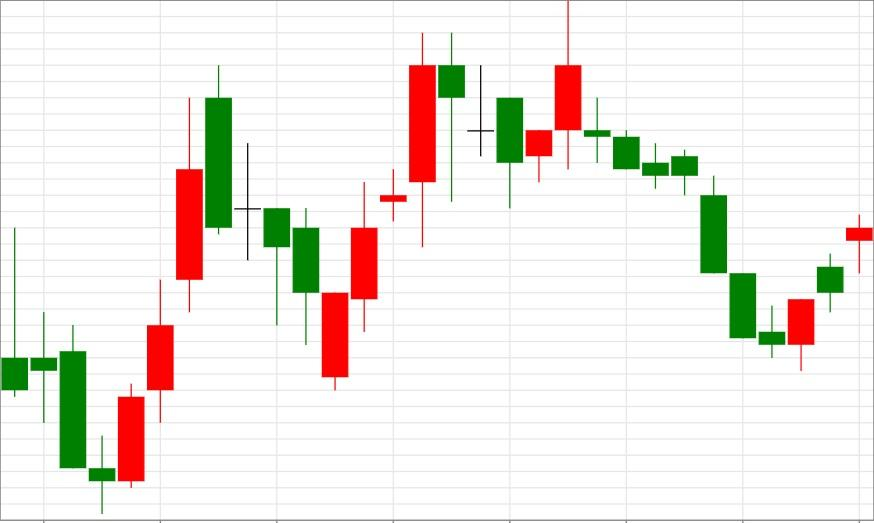three_white_soldiers_rise: (29, 97, 204, 514)
